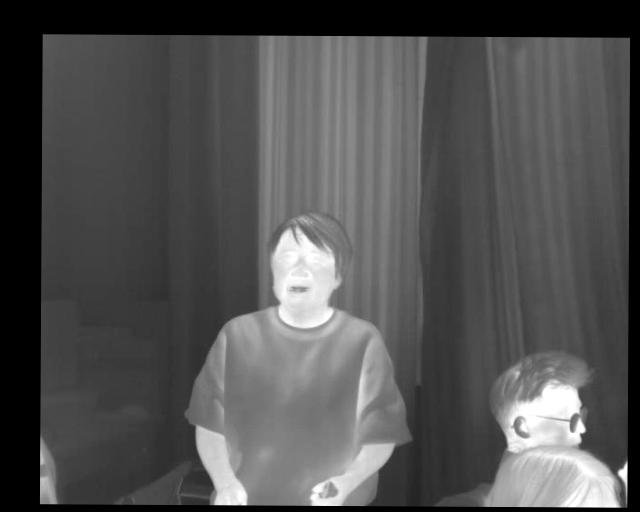face: (265, 211, 352, 315)
